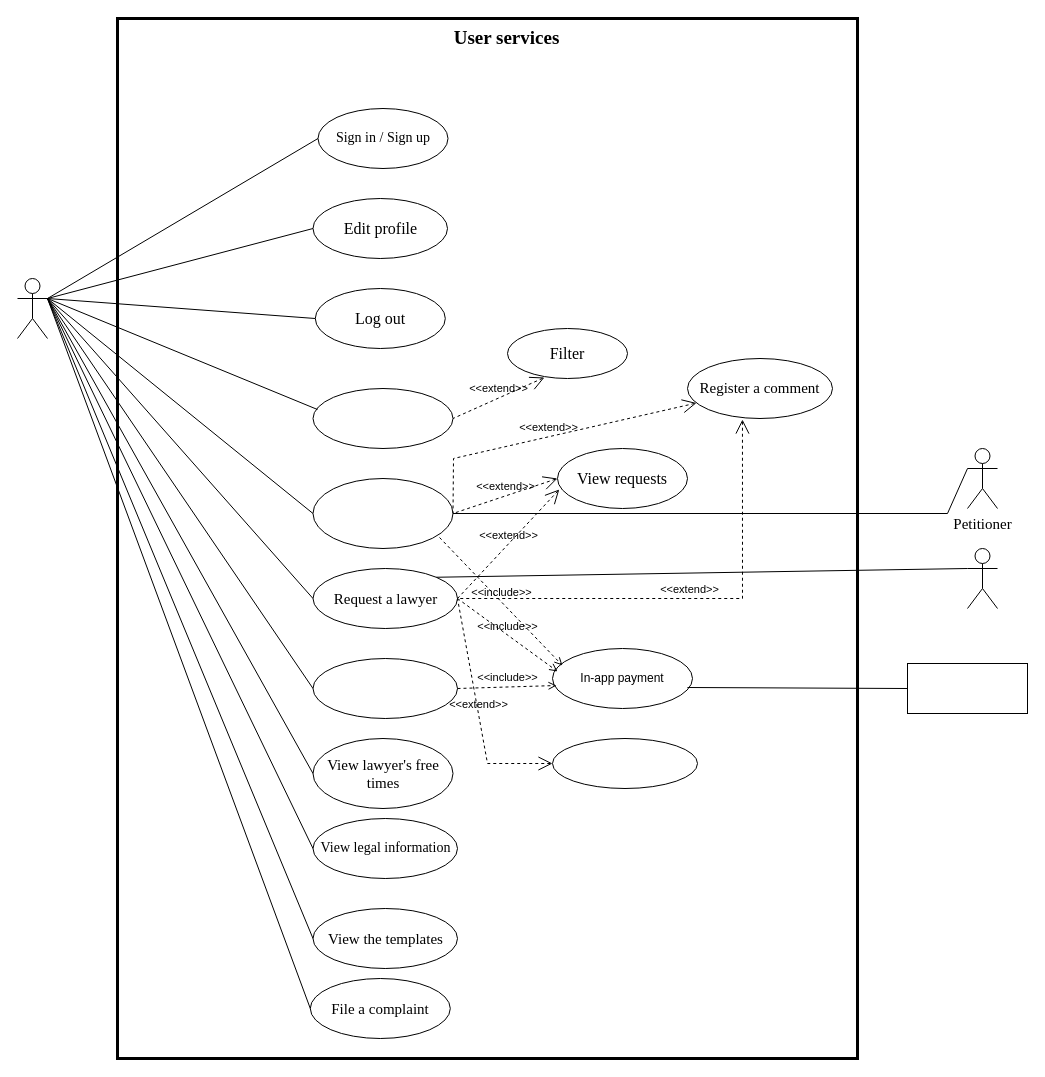
Some shapes in this 1045 by 1077 pixel diagram are drawn without their labels. Here are the shapes that lost their labels. From the top down, the centre of each, then its label:
[32,308]: User
[382,418]: Search
[382,513]: request for writing a petition
[982,578]: Lawyer
[385,688]: ‌Buy a template
[967,688]: Payment gateway
[625,763]: Cancel
